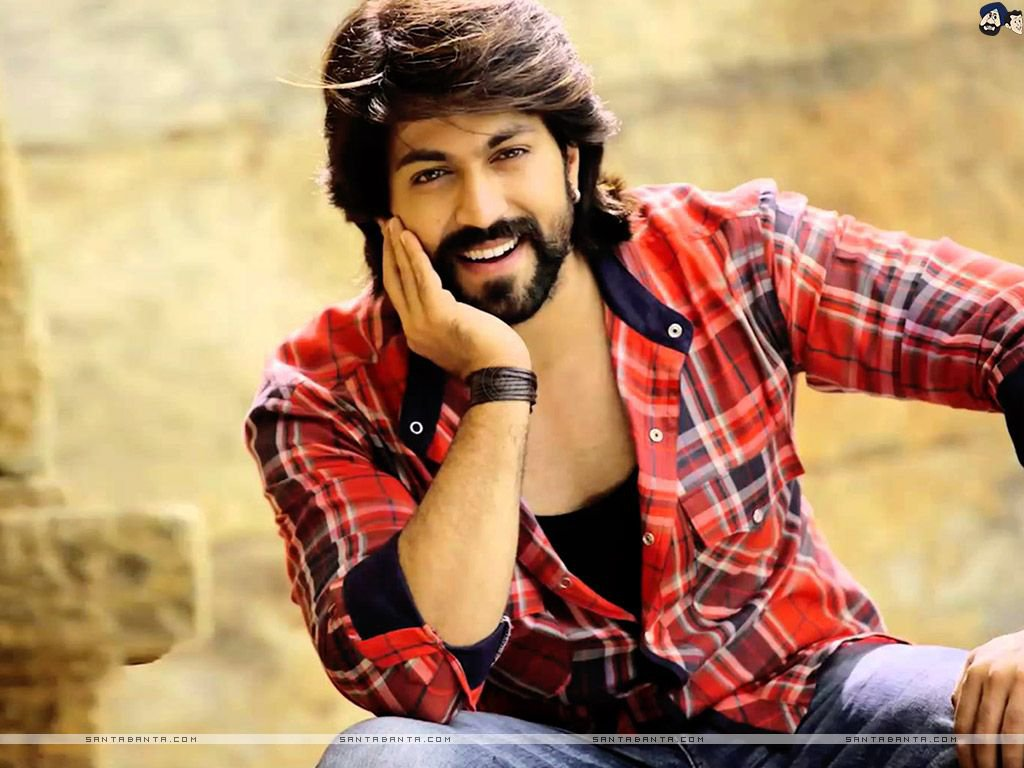noMask: (292, 1, 613, 322)
